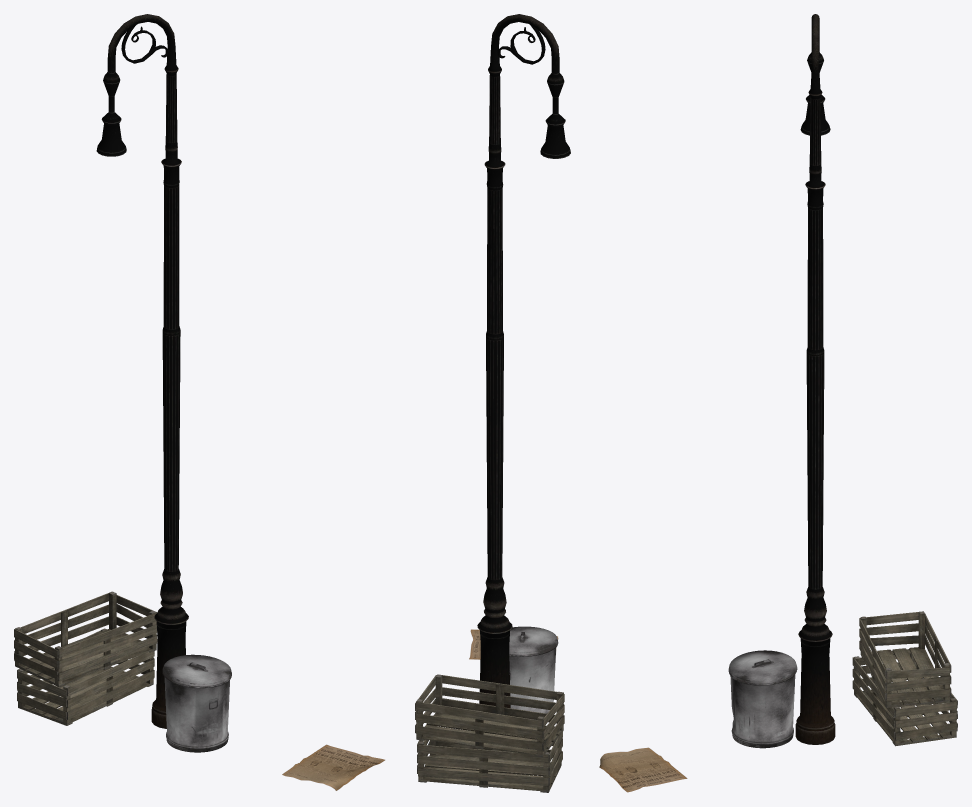
The picture shows the model from 3 angles, left to right: view 1: azimuth 30°, elevation 25°; view 2: azimuth 150°, elevation 25°; view 3: azimuth 270°, elevation 25°; orthographic projection. The views are drawn at different scales.
Visible parts, largest first — view 1: Lamp_1, crate low2_9, kosz lowbake_8, crate low_7, Newspaperbake_4; view 2: Lamp_1, crate low2_9, crate low_7, kosz lowbake_8, Newspaperbake_4; view 3: Lamp_1, crate low2_9, kosz lowbake_8, crate low_7, Newspaperbake_4.
Boxes of the visible parts, x1,y1,x2,y2 form: Lamp_1: [96, 14, 188, 728]; crate low2_9: [14, 591, 157, 686]; kosz lowbake_8: [162, 654, 231, 752]; crate low_7: [17, 628, 154, 725]; Newspaperbake_4: [282, 744, 384, 790]; Lamp_1: [477, 14, 570, 708]; crate low2_9: [415, 674, 564, 757]; crate low_7: [417, 723, 562, 792]; kosz lowbake_8: [509, 626, 558, 713]; Newspaperbake_4: [469, 629, 558, 659]; Lamp_1: [795, 14, 835, 744]; crate low2_9: [859, 611, 951, 707]; kosz lowbake_8: [728, 650, 797, 748]; crate low_7: [852, 653, 957, 746]; Newspaperbake_4: [599, 747, 687, 792].
Size of the model in its own units: 1.98 by 6.06 by 2.77.
Materials: 4 (4 with a texture image).
